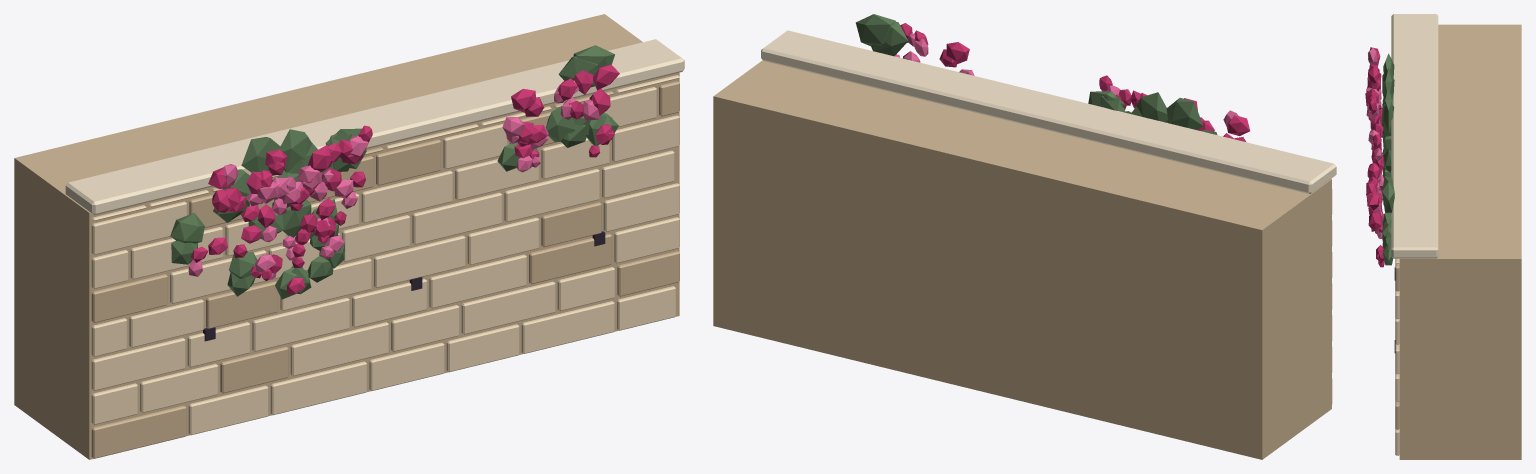
Rendered from wall_retaining_flowers.glb.
The picture shows the model from 3 angles, left to right: view 1: azimuth 30°, elevation 25°; view 2: azimuth 150°, elevation 25°; view 3: azimuth 270°, elevation 25°; orthographic projection. The views are drawn at different scales.
Visible parts, largest first — view 1: wall_retaining_flowers; view 2: wall_retaining_flowers; view 3: wall_retaining_flowers.
Boxes of the visible parts, bbox=[...] form: wall_retaining_flowers: bbox=[14, 14, 684, 459]; wall_retaining_flowers: bbox=[713, 14, 1336, 459]; wall_retaining_flowers: bbox=[1365, 14, 1521, 459].
Bounding box in the file's own units: 10.04 × 4.82 × 2.82.
